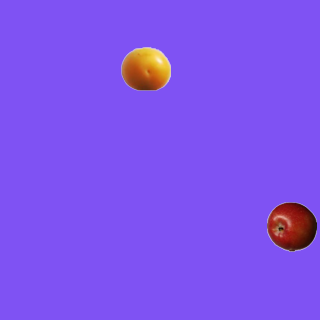Apple Braeburn: (266, 201, 316, 251)
Cherry Wax Yellow: (120, 43, 170, 93)
